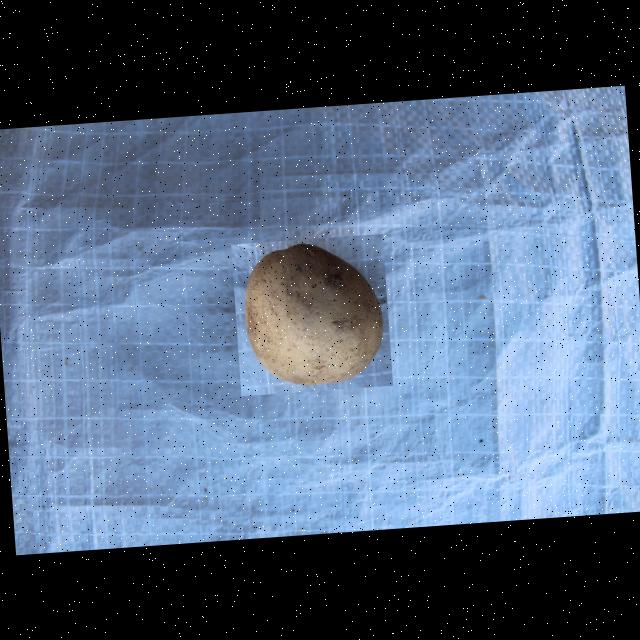Diseased-fungal potato: (230, 234, 392, 396)
